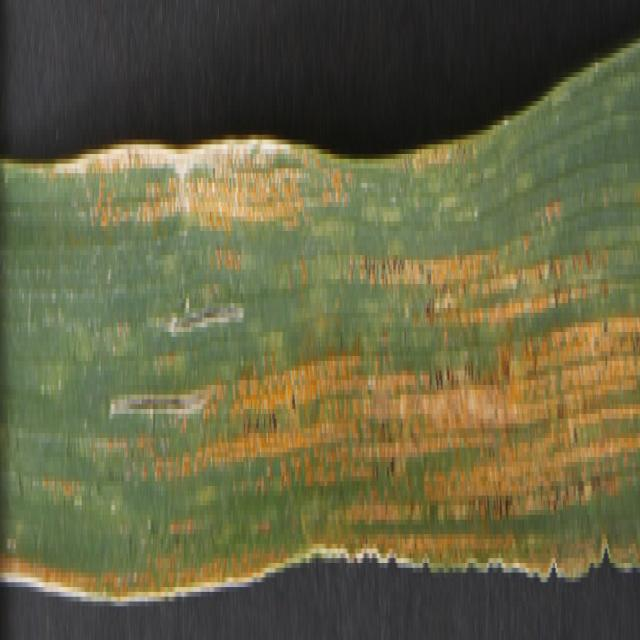leaf rust: (34, 125, 638, 592)
